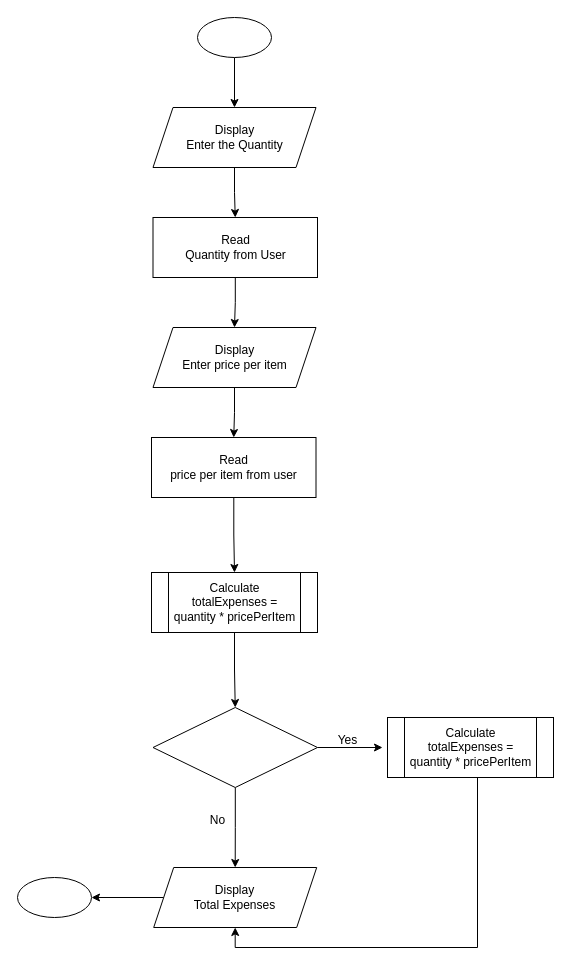
Image size: 571x973. Some labels were removed from this diagram. The shapes that lost their labels are listed below. From the top down, each one's centre as x and y in pixels, then its label:
At point (234, 37): "Start".
At point (235, 747): "If Quantity > 1000".
At point (54, 897): "Stop".
